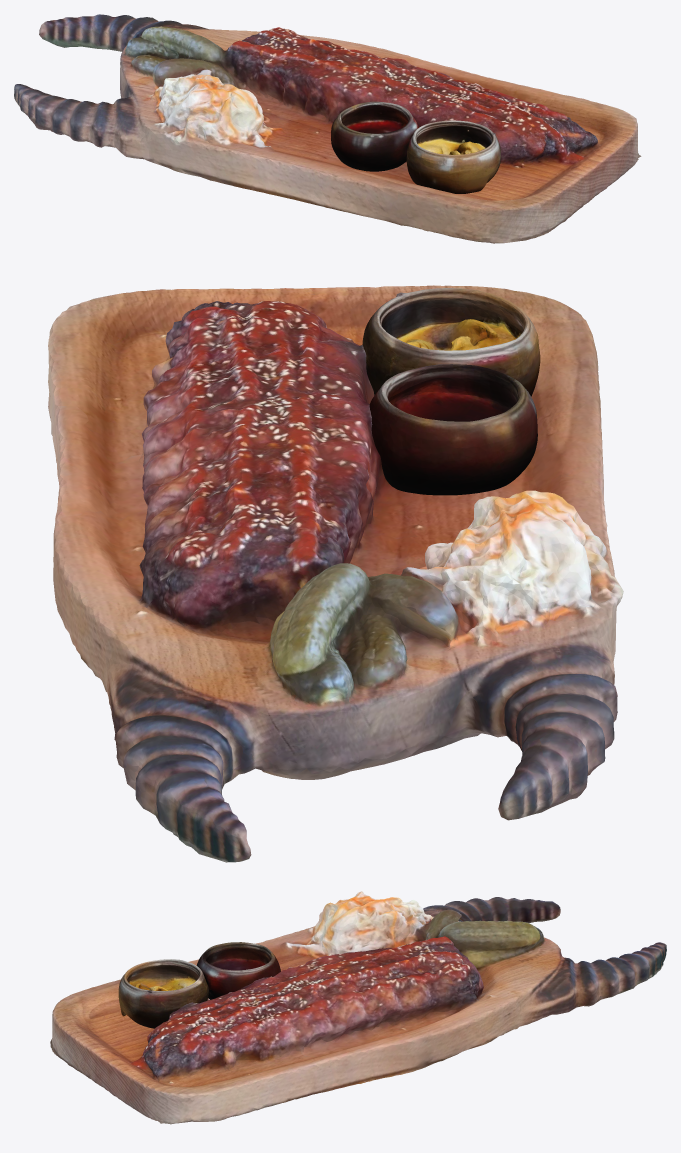
Rendered from Dandeh.final.glb.
The picture shows the model from 3 angles, top to bottom: view 1: azimuth 30°, elevation 25°; view 2: azimuth 150°, elevation 25°; view 3: azimuth 270°, elevation 25°; orthographic projection. The views are drawn at different scales.
Parts seen in each view (by area): view 1: object 1, world; view 2: object 1, world; view 3: object 1, world.
Boxes of the visible parts, x1,y1,x2,y2 form: object 1: (14,14,641,243); world: (331,101,500,193); object 1: (48,285,623,862); world: (362,288,540,495); object 1: (50,891,666,1124); world: (118,942,280,1028).
Bounding box in the file's own units: 0.4366 × 0.0679 × 0.5563.
4 materials, 2 textured.
